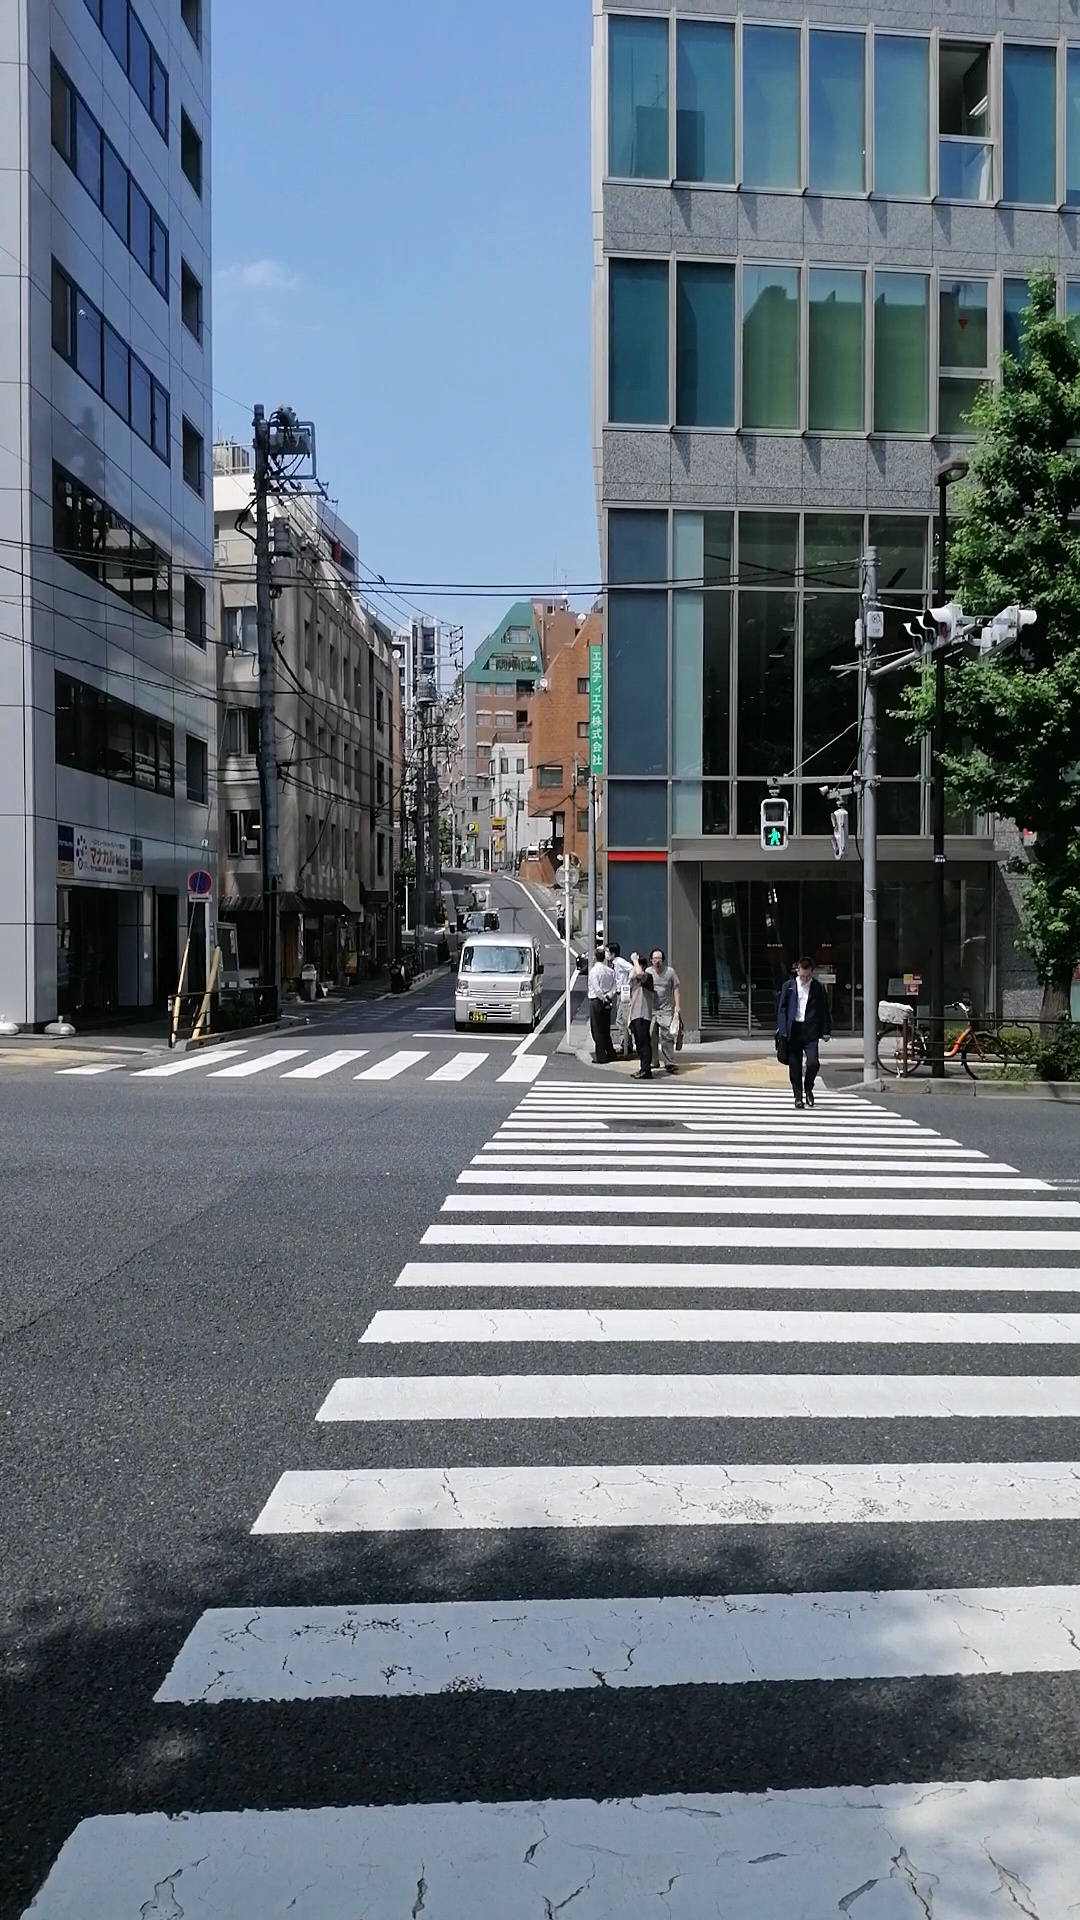green: (761, 798, 789, 851)
